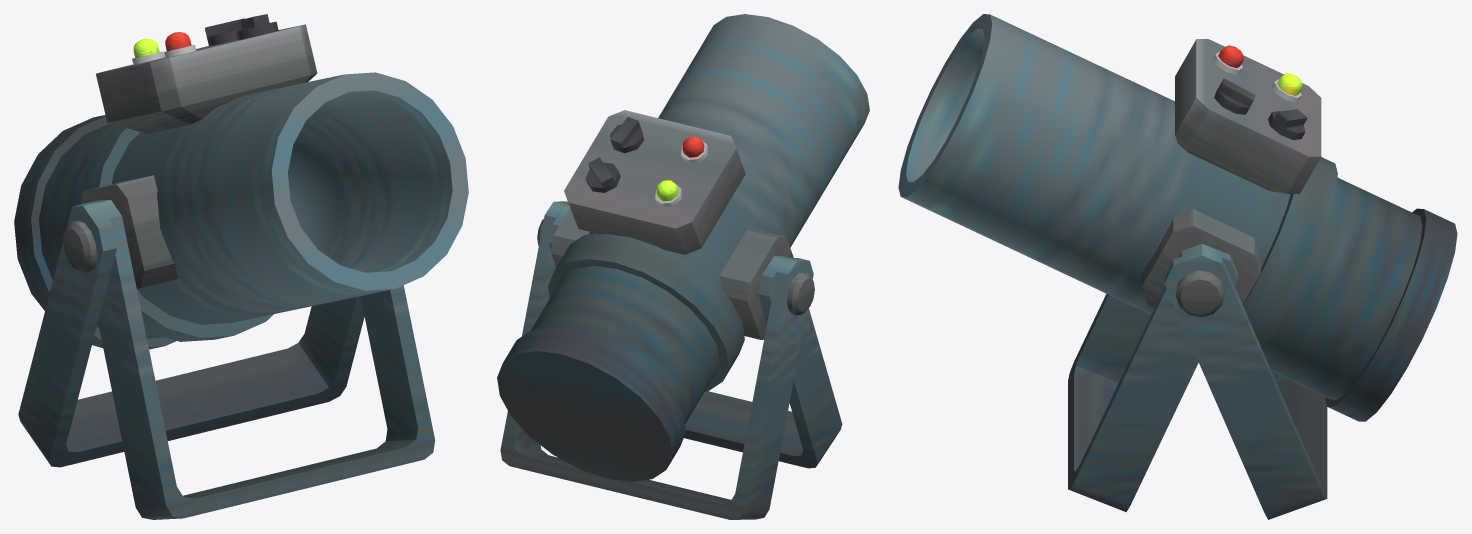
3 renders of one model, left to right at view 1: azimuth 30°, elevation 25°; view 2: azimuth 150°, elevation 25°; view 3: azimuth 270°, elevation 25°, orthographic. The views are drawn at different scales.
Visible parts, largest first — view 1: ConfettiCannons; view 2: ConfettiCannons; view 3: ConfettiCannons.
Boxes of the visible parts, x1,y1,x2,y2 form: ConfettiCannons: (14,14,468,519); ConfettiCannons: (497,14,869,519); ConfettiCannons: (898,14,1457,519).
Size of what is drawn, in the model's own units: 0.6923 by 0.9796 by 1.14.
1 material, 1 textured.
